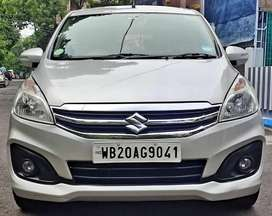WB20AG9041: (93, 143, 180, 161)
